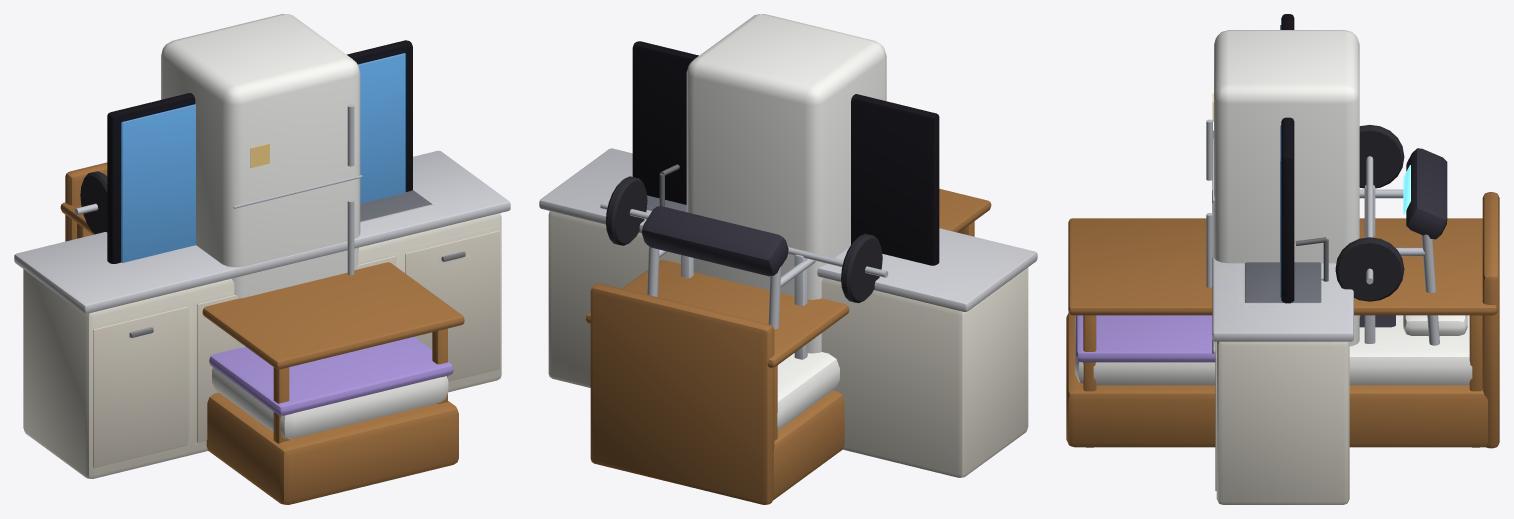
File: office-props-floor-4.1bcdde2c.glb
3 renders of one model, left to right at view 1: azimuth 30°, elevation 25°; view 2: azimuth 150°, elevation 25°; view 3: azimuth 270°, elevation 25°, orthographic. The views are drawn at different scales.
Parts seen in each view (by area): view 1: kitchen-counter, fridge, bed, tv-stand, dining-table, weight-bench; view 2: kitchen-counter, bed, fridge, tv-stand, dining-table, treadmill, weight-bench; view 3: bed, kitchen-counter, fridge, dining-table, weight-bench, treadmill, tv-stand.
Part boxes in pixels (x1=…): kitchen-counter: x1=14, y1=150, x2=510, y2=478; fridge: x1=161, y1=14, x2=362, y2=347; bed: x1=65, y1=162, x2=458, y2=504; tv-stand: x1=107, y1=40, x2=412, y2=263; dining-table: x1=60, y1=202, x2=464, y2=443; weight-bench: x1=75, y1=171, x2=107, y2=234; kitchen-counter: x1=539, y1=148, x2=1037, y2=477; bed: x1=590, y1=283, x2=844, y2=504; fridge: x1=686, y1=14, x2=886, y2=353; tv-stand: x1=632, y1=41, x2=939, y2=265; dining-table: x1=586, y1=188, x2=991, y2=440; treadmill: x1=642, y1=206, x2=815, y2=365; weight-bench: x1=600, y1=176, x2=888, y2=359; bed: x1=1066, y1=192, x2=1499, y2=448; kitchen-counter: x1=1212, y1=130, x2=1353, y2=504; fridge: x1=1206, y1=30, x2=1359, y2=346; dining-table: x1=1068, y1=218, x2=1497, y2=447; weight-bench: x1=1335, y1=125, x2=1404, y2=343; treadmill: x1=1359, y1=148, x2=1447, y2=345; tv-stand: x1=1280, y1=14, x2=1294, y2=303.
Bounding box in the file's own units: 2.26 × 1.8 × 2.02.
Materials: 27 (3 with a texture image).
